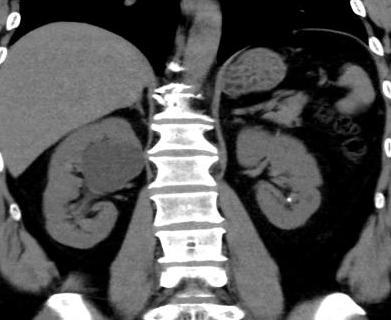Tas_Var: (286, 197, 292, 200), (288, 200, 291, 202)
